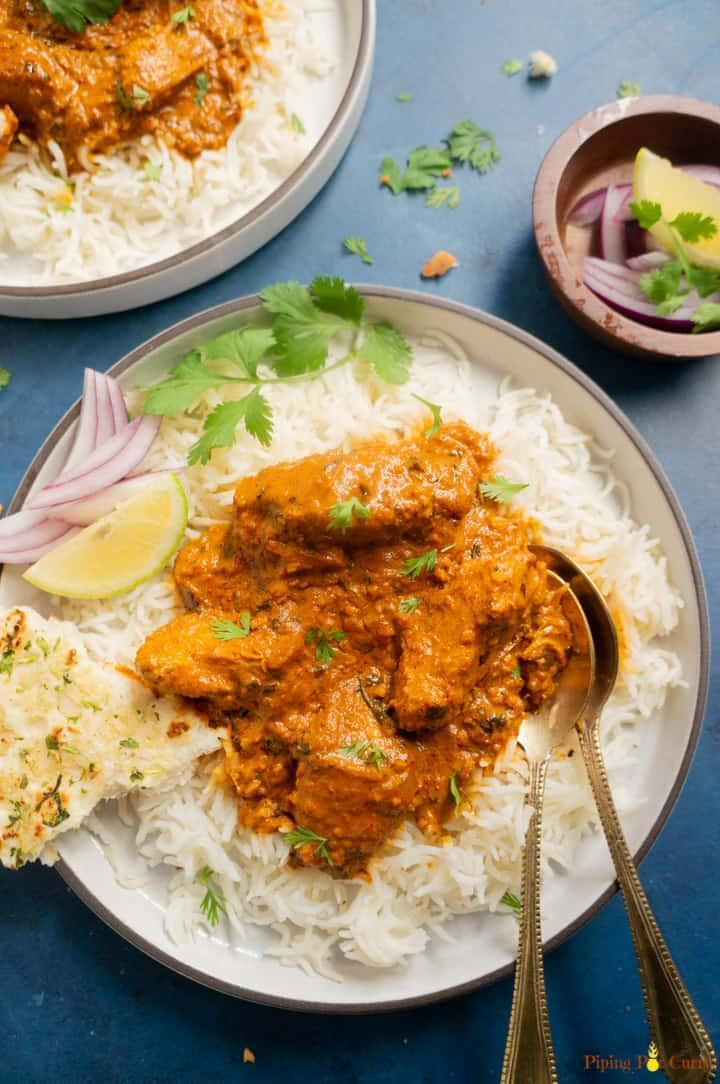chicken: (170, 455, 547, 839), (0, 2, 270, 145)
rice: (130, 795, 573, 980), (547, 438, 677, 853), (3, 142, 260, 292)
